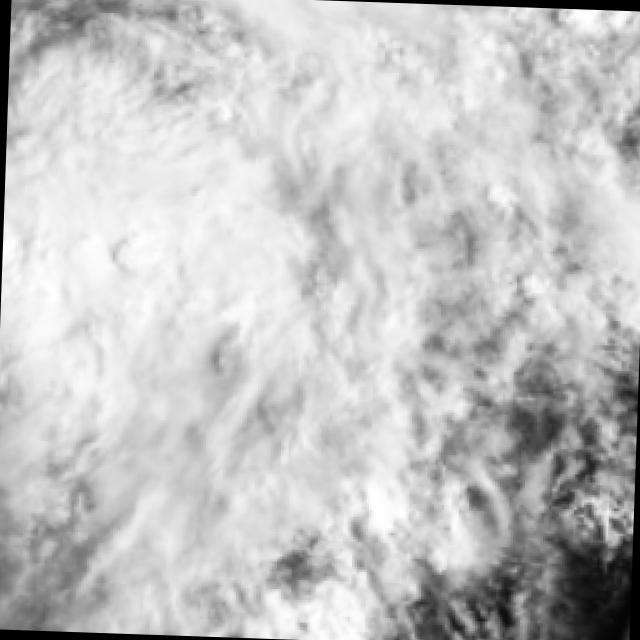CB: (30, 135, 246, 360)
